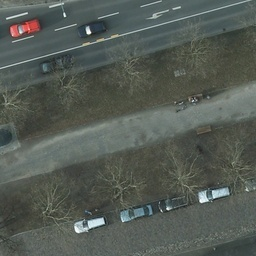car: (40, 54, 73, 75), (120, 202, 153, 223), (73, 213, 106, 234), (158, 193, 191, 213), (10, 17, 42, 37), (198, 186, 232, 204), (79, 21, 107, 38)
